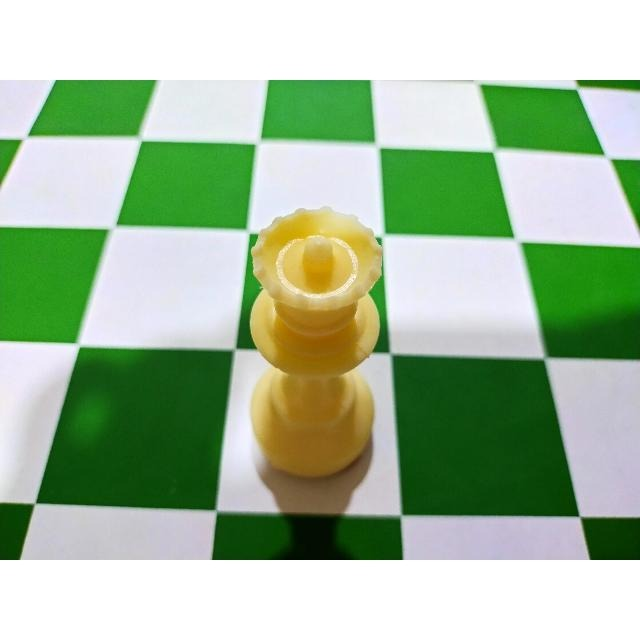white-queen: (230, 200, 390, 484)
